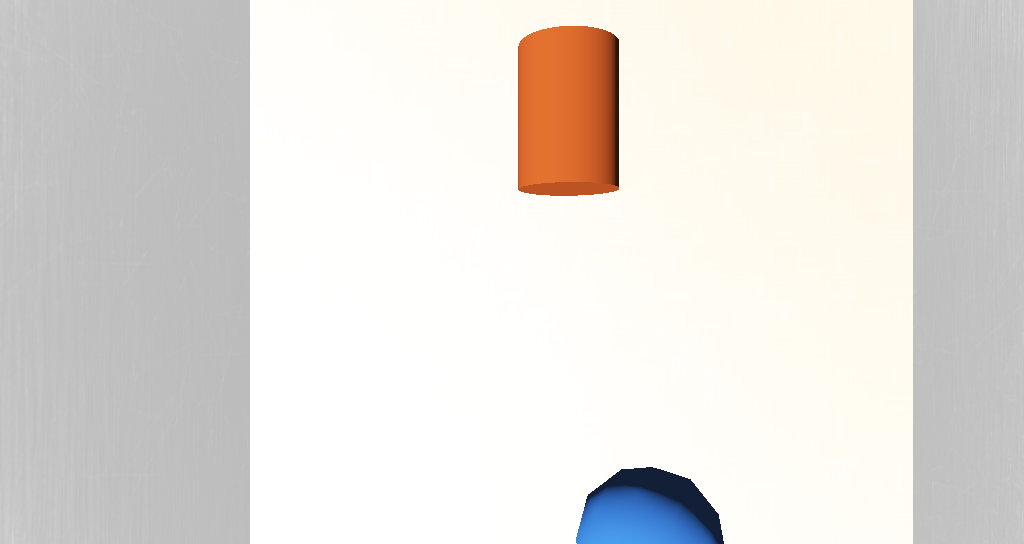cone: (475, 196, 522, 243)
cylinder: (623, 117, 778, 208)
sphere: (499, 324, 566, 372)
